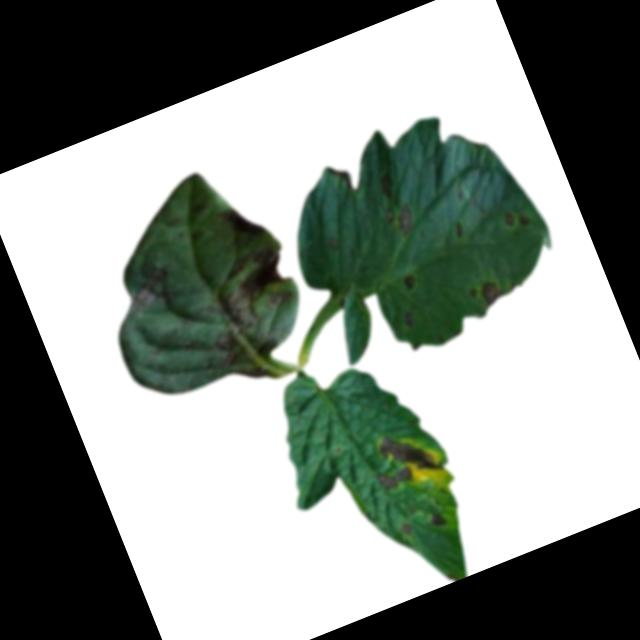Early_blight: (182, 242, 318, 376), (112, 258, 181, 318), (373, 425, 438, 488), (219, 200, 269, 248), (380, 195, 421, 242), (465, 273, 509, 314), (373, 462, 414, 496), (373, 172, 398, 201), (502, 208, 529, 234), (425, 508, 448, 533), (397, 308, 415, 330), (396, 519, 414, 540), (398, 274, 417, 293)
